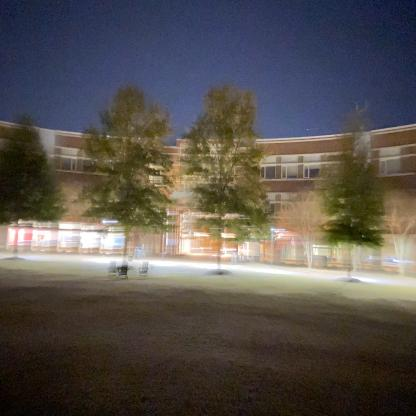eb2: (4, 114, 416, 282)
